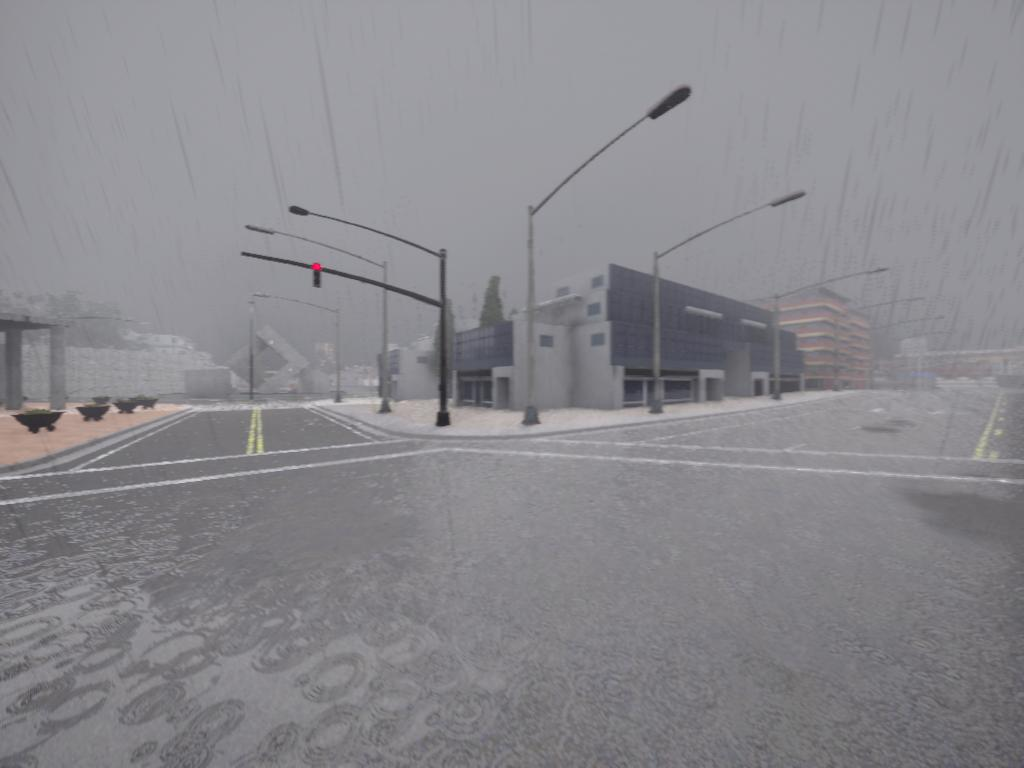traffic_light: (313, 265, 324, 289)
